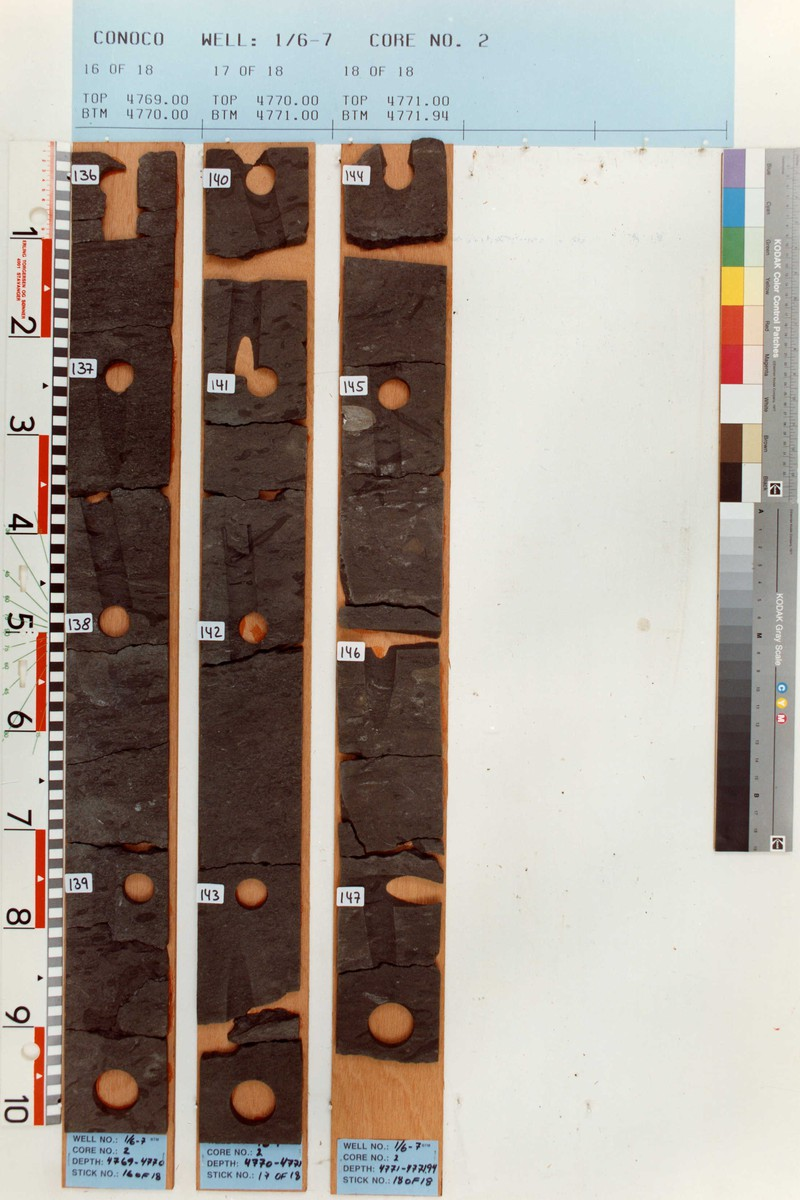core: (326, 138, 451, 1071), (198, 147, 313, 1145), (62, 148, 177, 1130)
